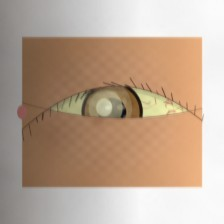corneal_ulcer: (76, 84, 135, 132)
